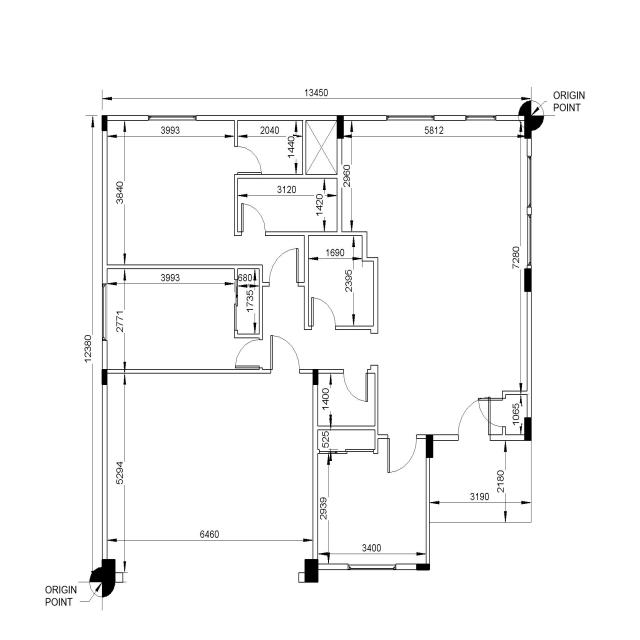Column: (304, 559, 318, 583), (102, 559, 115, 582), (524, 417, 532, 441), (524, 268, 532, 292), (336, 115, 344, 139), (524, 115, 532, 138), (426, 434, 433, 458), (101, 115, 108, 131), (101, 369, 108, 385), (312, 369, 318, 385), (416, 564, 430, 570)
Door: (458, 397, 490, 441), (270, 334, 300, 374), (387, 434, 417, 473), (269, 248, 298, 286), (477, 398, 506, 427), (241, 203, 266, 236), (311, 297, 336, 330), (343, 369, 368, 402), (234, 146, 262, 175), (235, 339, 263, 368)
Sliding Door: (319, 449, 374, 454), (234, 279, 238, 331)
Window: (526, 214, 532, 266), (526, 156, 532, 207), (386, 115, 435, 121), (102, 283, 107, 341), (148, 115, 196, 121), (348, 564, 396, 570), (466, 115, 496, 121)
